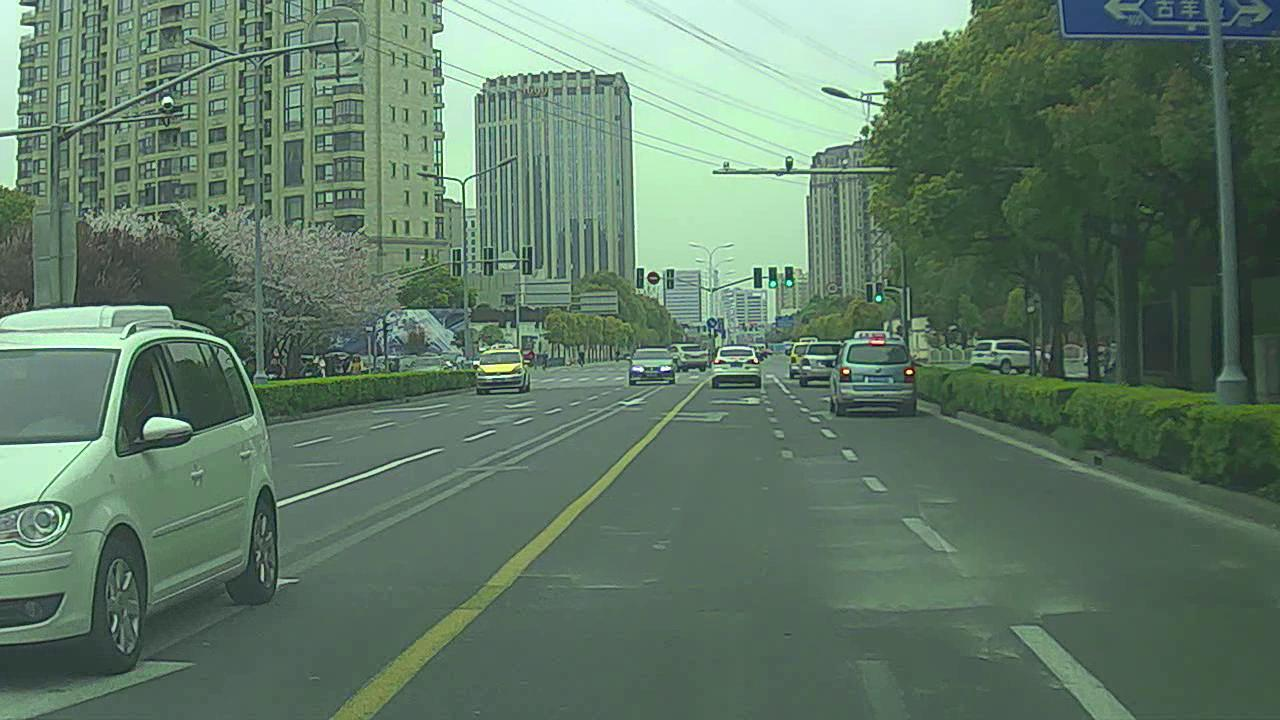traffic_light: (783, 264, 794, 289), (752, 266, 762, 288), (768, 266, 777, 289), (875, 283, 885, 303), (865, 282, 873, 305)
